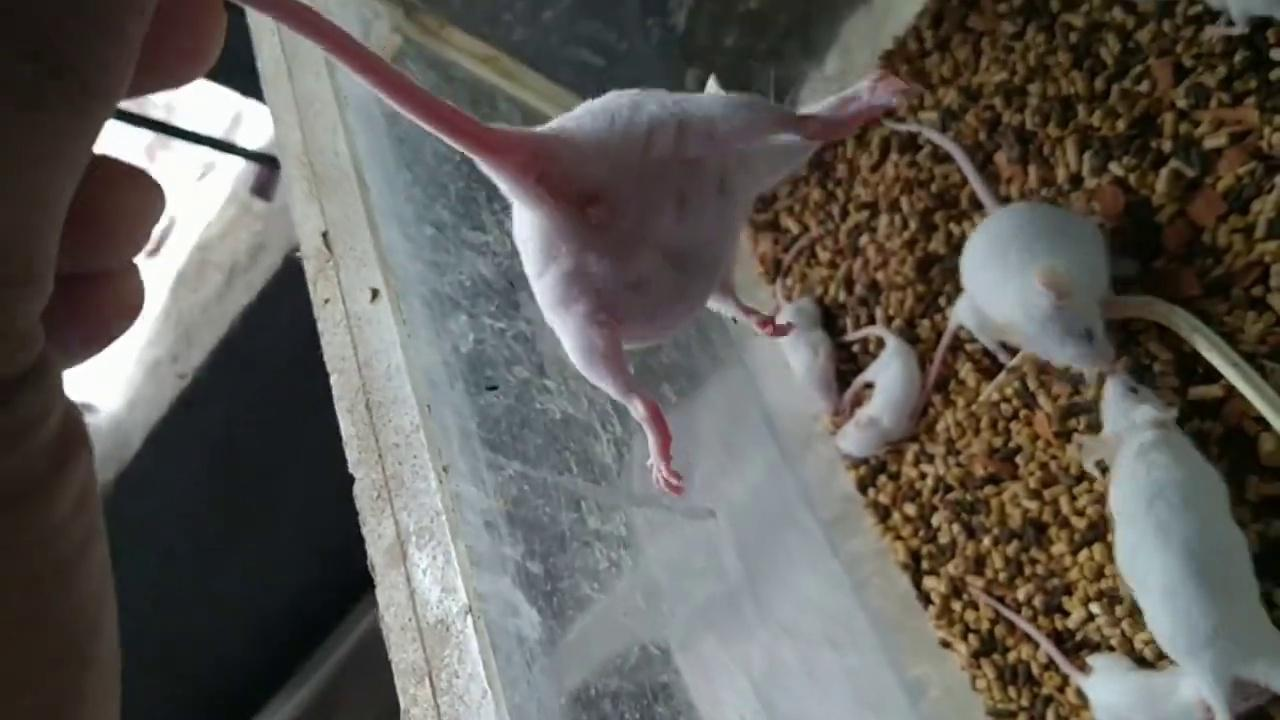rat: (238, 0, 904, 498), (1081, 368, 1280, 718), (882, 118, 1114, 376), (966, 585, 1218, 718), (841, 324, 917, 470), (775, 273, 837, 425)
